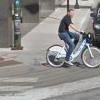Bicycle: (40, 25, 100, 74)
